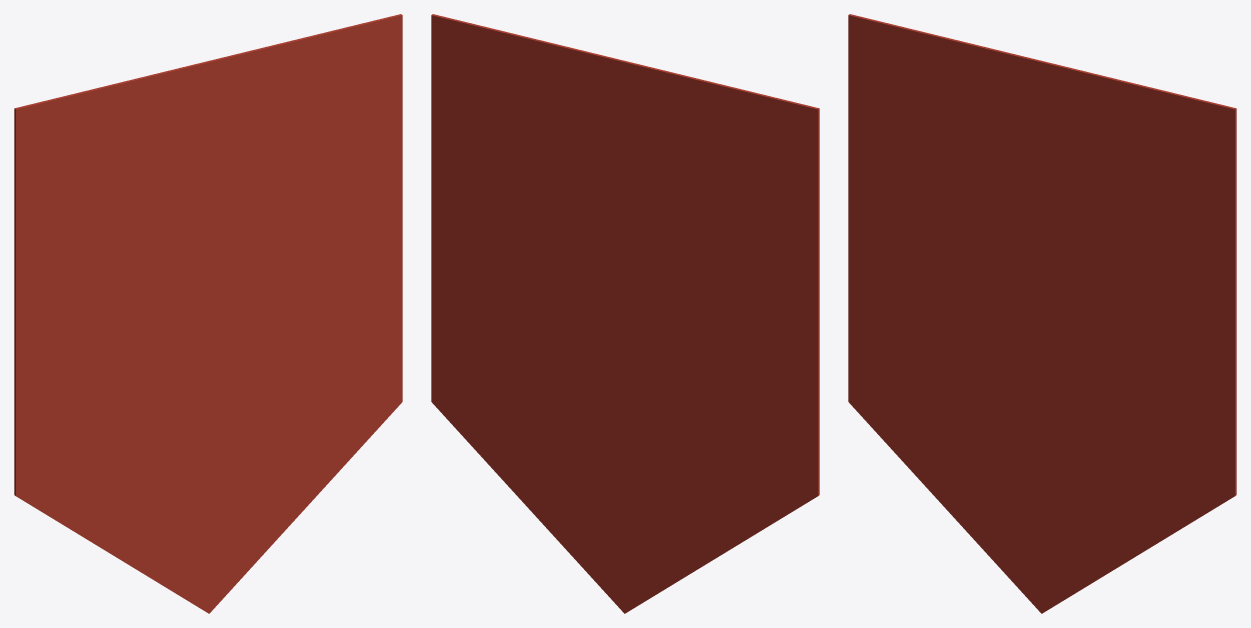
The model's file is Proxy_Banner_A02.fbx.
The picture shows the model from 3 angles, left to right: view 1: azimuth 30°, elevation 25°; view 2: azimuth 150°, elevation 25°; view 3: azimuth 330°, elevation 25°; orthographic projection.
Visible parts, largest first — view 1: Proxy_Banner_A02; view 2: Proxy_Banner_A02; view 3: Proxy_Banner_A02.
Part boxes in pixels (x1,y1,x2,y2): Proxy_Banner_A02: (14,14,402,613); Proxy_Banner_A02: (431,14,819,613); Proxy_Banner_A02: (848,14,1236,613).
Bounding box in the file's own units: 834 × 5.9 × 1137.
